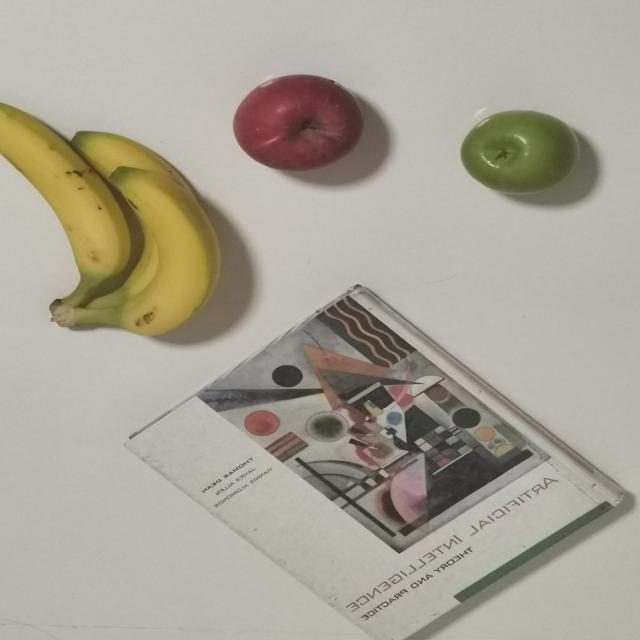apple: (231, 71, 363, 178), (466, 112, 574, 195)
banana: (0, 73, 230, 348)
